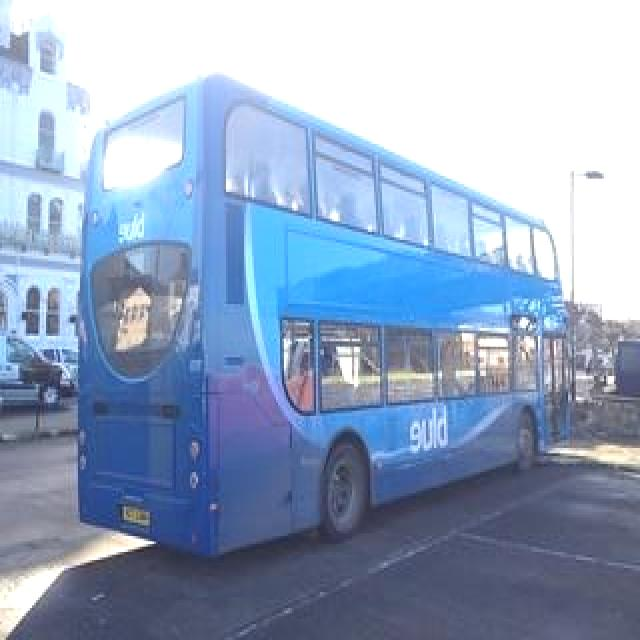Bus: (99, 204, 546, 499)
